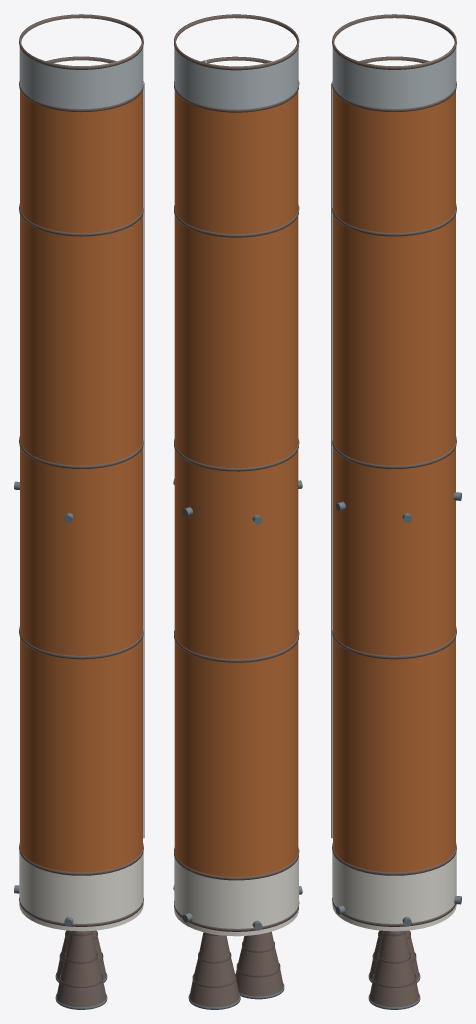
File: atlas_v_core.glb
3 views of the same model, side by side, from view 1: azimuth 90°, elevation 25°; view 2: azimuth 210°, elevation 25°; view 3: azimuth 270°, elevation 25° (orthographic).
Visible parts, largest first — view 1: atlas_v_core.mesh_Spray-on_insulation, atlas_v_core.mesh_Warm_white_enamel, atlas_v_core.mesh_Satin_aluminum, atlas_v_core.mesh_Heat-stained_alloy, atlas_v_core.rd180.chamber_01.bell.mesh_Heat-stained_alloy, atlas_v_core.mesh_Pale_thermal_blanket, atlas_v_core.rd180.chamber_02.bell.mesh_Heat-stained_alloy; view 2: atlas_v_core.mesh_Spray-on_insulation, atlas_v_core.mesh_Warm_white_enamel, atlas_v_core.mesh_Satin_aluminum, atlas_v_core.mesh_Heat-stained_alloy, atlas_v_core.rd180.chamber_02.bell.mesh_Heat-stained_alloy, atlas_v_core.rd180.chamber_01.bell.mesh_Heat-stained_alloy, atlas_v_core.mesh_Machined_steel; view 3: atlas_v_core.mesh_Spray-on_insulation, atlas_v_core.mesh_Warm_white_enamel, atlas_v_core.mesh_Satin_aluminum, atlas_v_core.mesh_Heat-stained_alloy, atlas_v_core.rd180.chamber_02.bell.mesh_Heat-stained_alloy, atlas_v_core.mesh_Pale_thermal_blanket, atlas_v_core.rd180.chamber_01.bell.mesh_Heat-stained_alloy, atlas_v_core.mesh_Machined_steel.
Boxes of the visible parts, x1,y1,x2,y2 form: atlas_v_core.mesh_Spray-on_insulation: (20,41,142,872); atlas_v_core.mesh_Warm_white_enamel: (19,851,143,931); atlas_v_core.mesh_Satin_aluminum: (19,43,143,108); atlas_v_core.mesh_Heat-stained_alloy: (19,14,143,926); atlas_v_core.rd180.chamber_01.bell.mesh_Heat-stained_alloy: (56,931,106,1007); atlas_v_core.mesh_Pale_thermal_blanket: (143,82,144,838); atlas_v_core.rd180.chamber_02.bell.mesh_Heat-stained_alloy: (56,930,106,980); atlas_v_core.mesh_Spray-on_insulation: (174,41,298,876); atlas_v_core.mesh_Warm_white_enamel: (174,857,298,936); atlas_v_core.mesh_Satin_aluminum: (174,42,298,109); atlas_v_core.mesh_Heat-stained_alloy: (174,14,299,931); atlas_v_core.rd180.chamber_02.bell.mesh_Heat-stained_alloy: (189,932,239,1007); atlas_v_core.rd180.chamber_01.bell.mesh_Heat-stained_alloy: (235,931,283,996); atlas_v_core.mesh_Machined_steel: (173,478,302,930); atlas_v_core.mesh_Spray-on_insulation: (333,41,455,872); atlas_v_core.mesh_Warm_white_enamel: (332,851,456,931); atlas_v_core.mesh_Satin_aluminum: (332,43,456,108); atlas_v_core.mesh_Heat-stained_alloy: (332,14,456,926); atlas_v_core.rd180.chamber_02.bell.mesh_Heat-stained_alloy: (369,931,419,1007); atlas_v_core.mesh_Pale_thermal_blanket: (331,82,332,838); atlas_v_core.rd180.chamber_01.bell.mesh_Heat-stained_alloy: (369,930,419,980); atlas_v_core.mesh_Machined_steel: (335,492,461,926).
Bounding box in the file's own units: 4.18 × 32.41 × 4.06.
